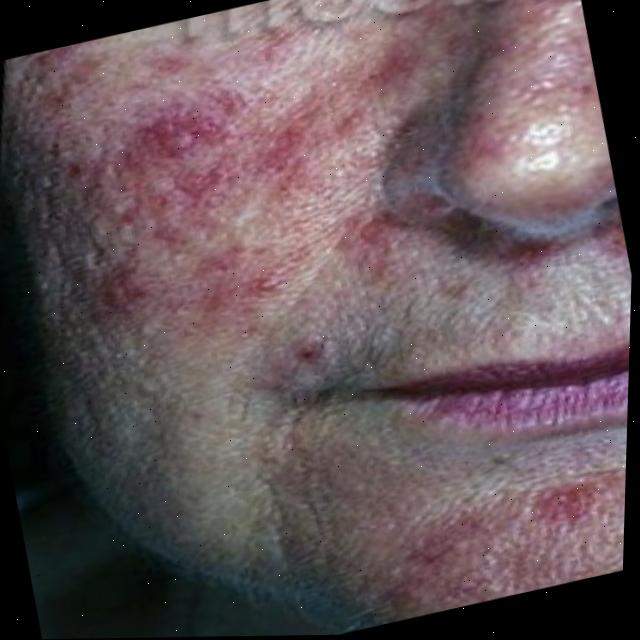Rosacea: (44, 3, 500, 361), (355, 457, 626, 624), (444, 0, 610, 167)
